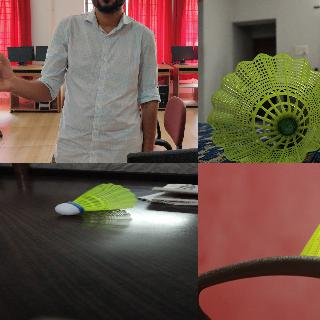shuttlecock: (206, 53, 319, 162), (54, 183, 135, 215), (300, 187, 319, 265)
